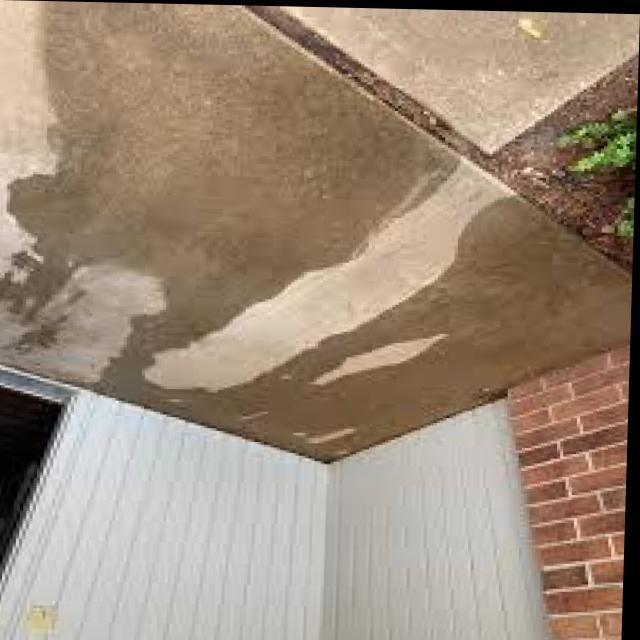water accumulation: (2, 0, 640, 463)
